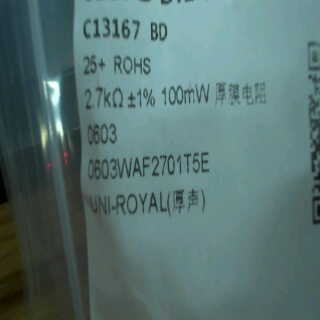2.7kR: (79, 84, 127, 113)
